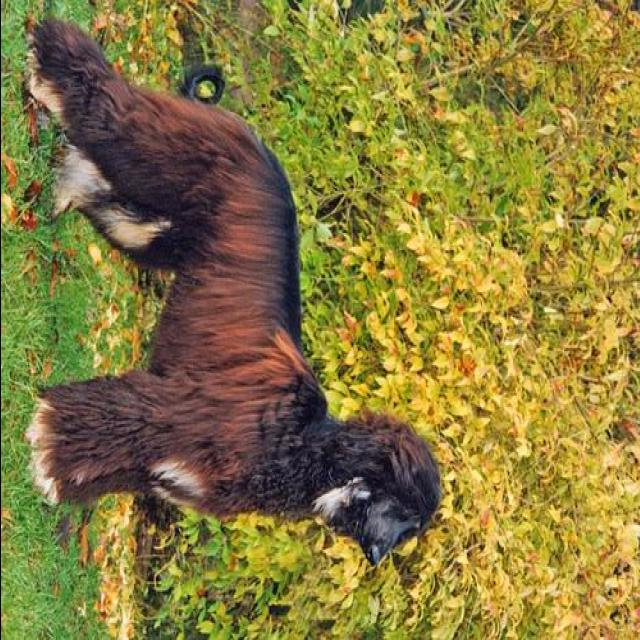afghan_hound: (24, 15, 442, 568)
